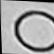no answer: (11, 8, 54, 54)
